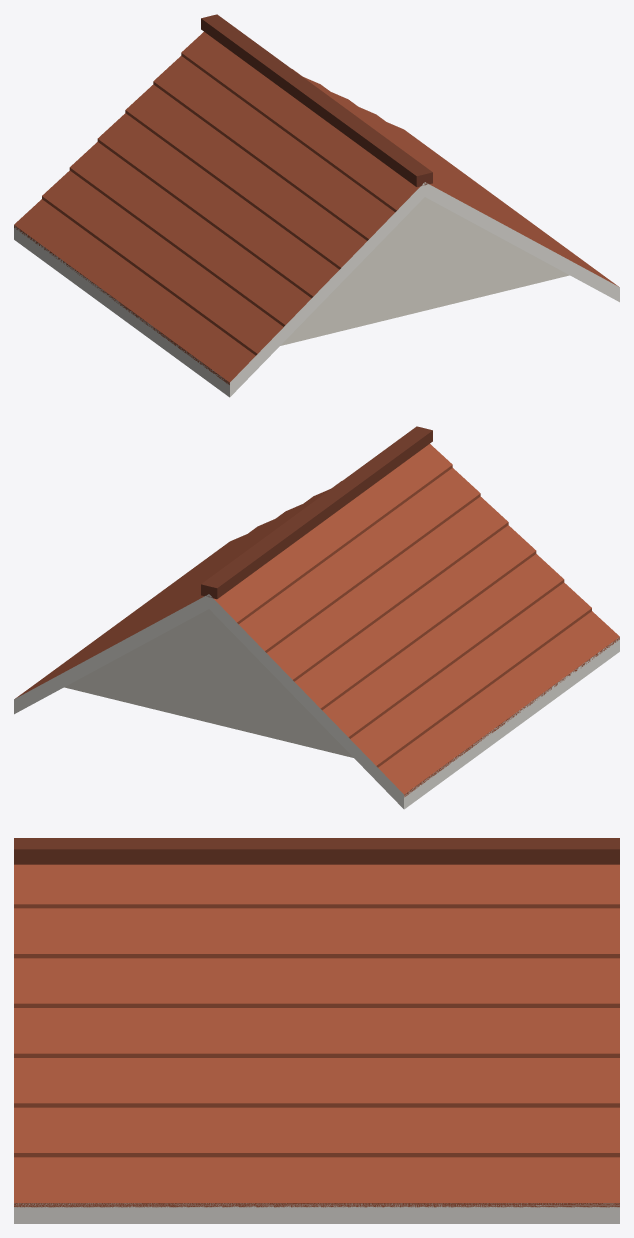
File: mod-telhado-barro-2x2.gltf
3 renders of one model, top to bottom at view 1: azimuth 30°, elevation 25°; view 2: azimuth 150°, elevation 25°; view 3: azimuth 270°, elevation 25°, orthographic. The views are drawn at different scales.
Visible parts, largest first — view 1: mod-telhado-barro-2x2; view 2: mod-telhado-barro-2x2; view 3: mod-telhado-barro-2x2.
Boxes of the visible parts, <box> form: mod-telhado-barro-2x2: <box>14,14,619,397</box>; mod-telhado-barro-2x2: <box>14,426,619,809</box>; mod-telhado-barro-2x2: <box>14,838,619,1223</box>.
Size of the model in its own units: 2.4 by 1.03 by 2.3.
